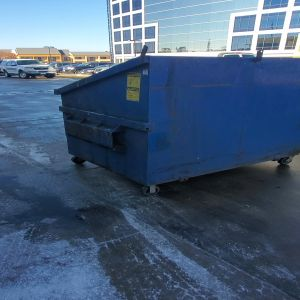Dumpster: (59, 54, 300, 198)
